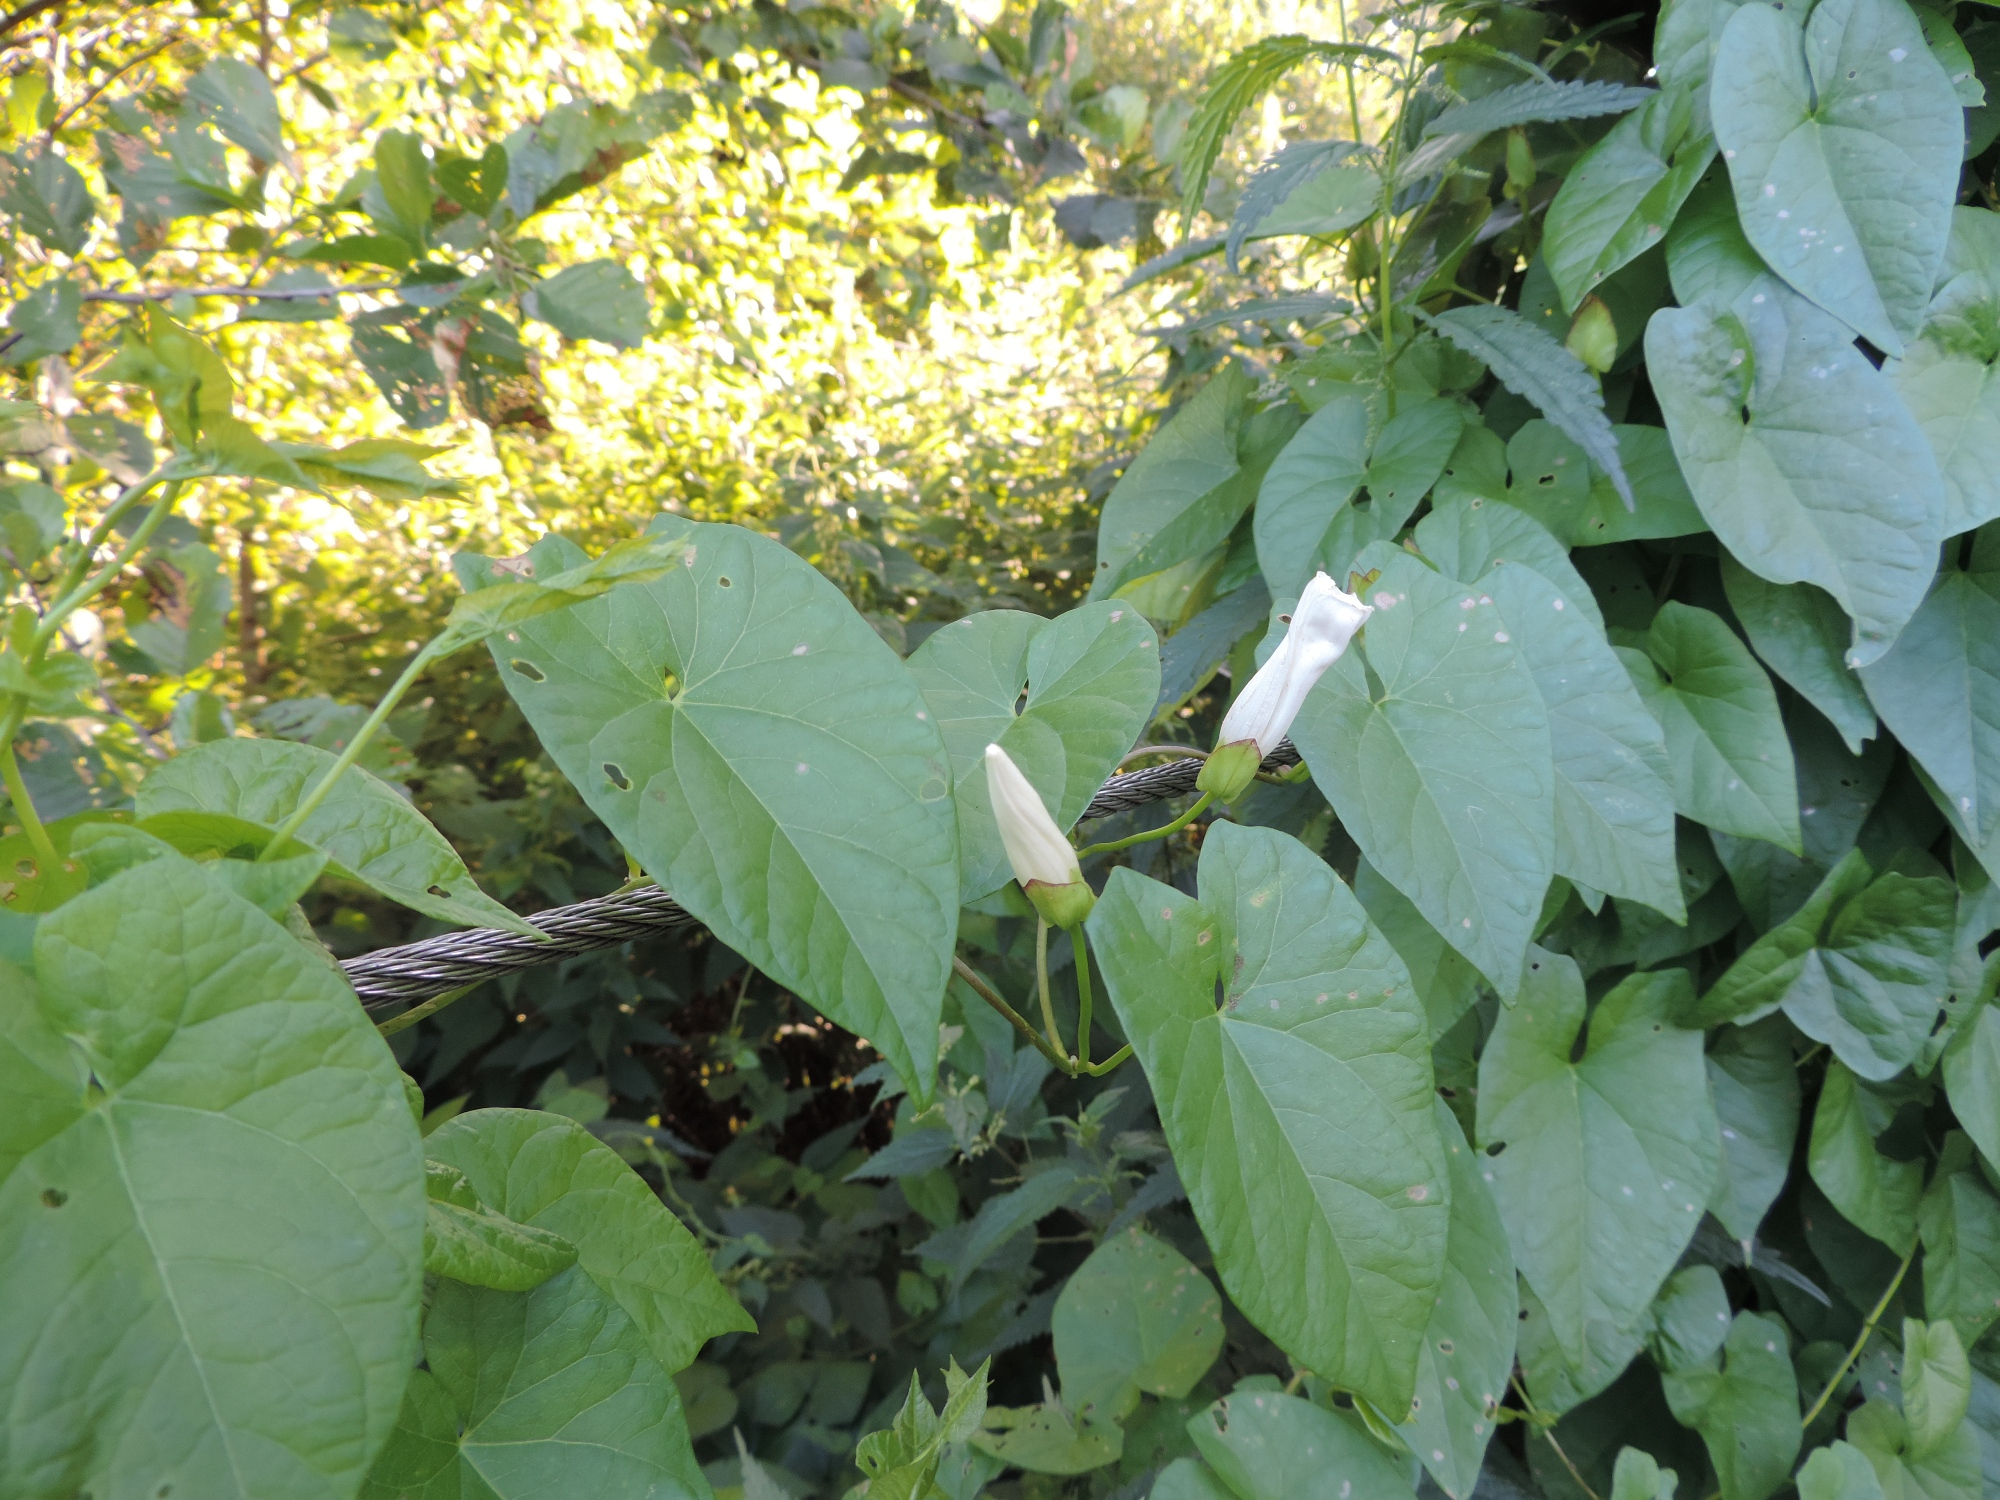haagwinde: (416, 515, 1803, 1443)
